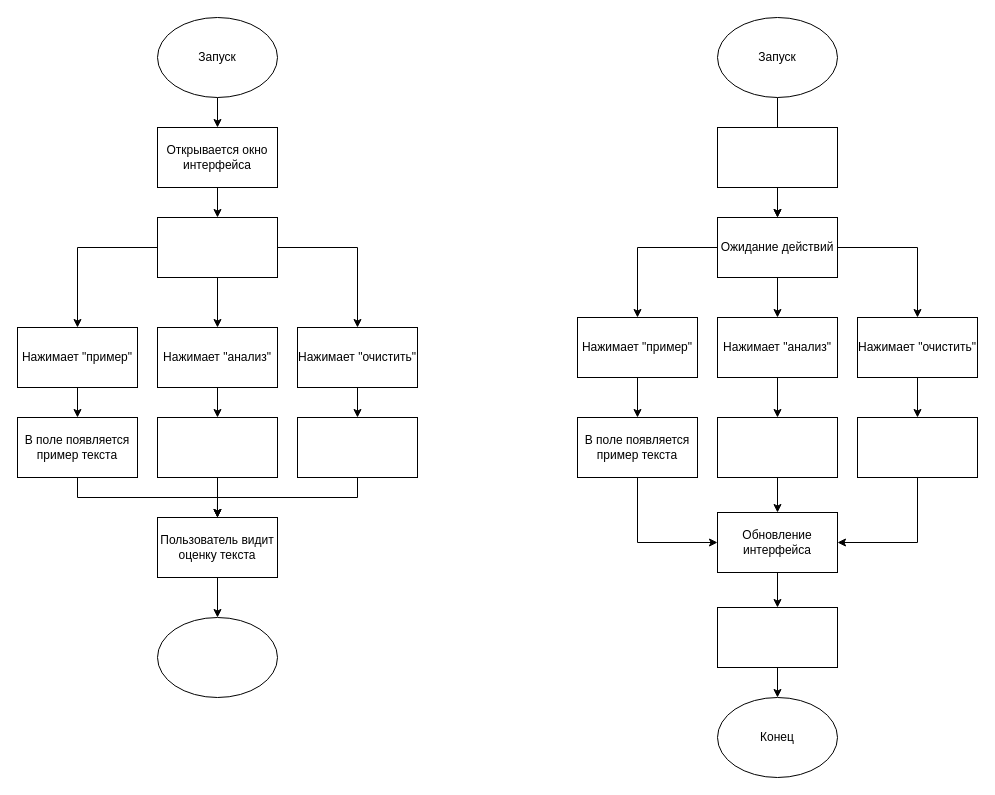
Some shapes in this 995 by 795 pixel diagram are drawn without their labels. The shapes that lost their labels are listed below. From the top down, each one's centre as x and y in pixels, then its label:
(777,157): Инициализация
(217,247): Видит кнопки
(217,447): Справа появляются результаты
(357,447): Поле ввода очищается
(777,447): Проверяется текст по алгоритму
(917,447): Очистка текстового поля
(217,657): Выход
(777,637): Возврат в состояние ожидание действия
